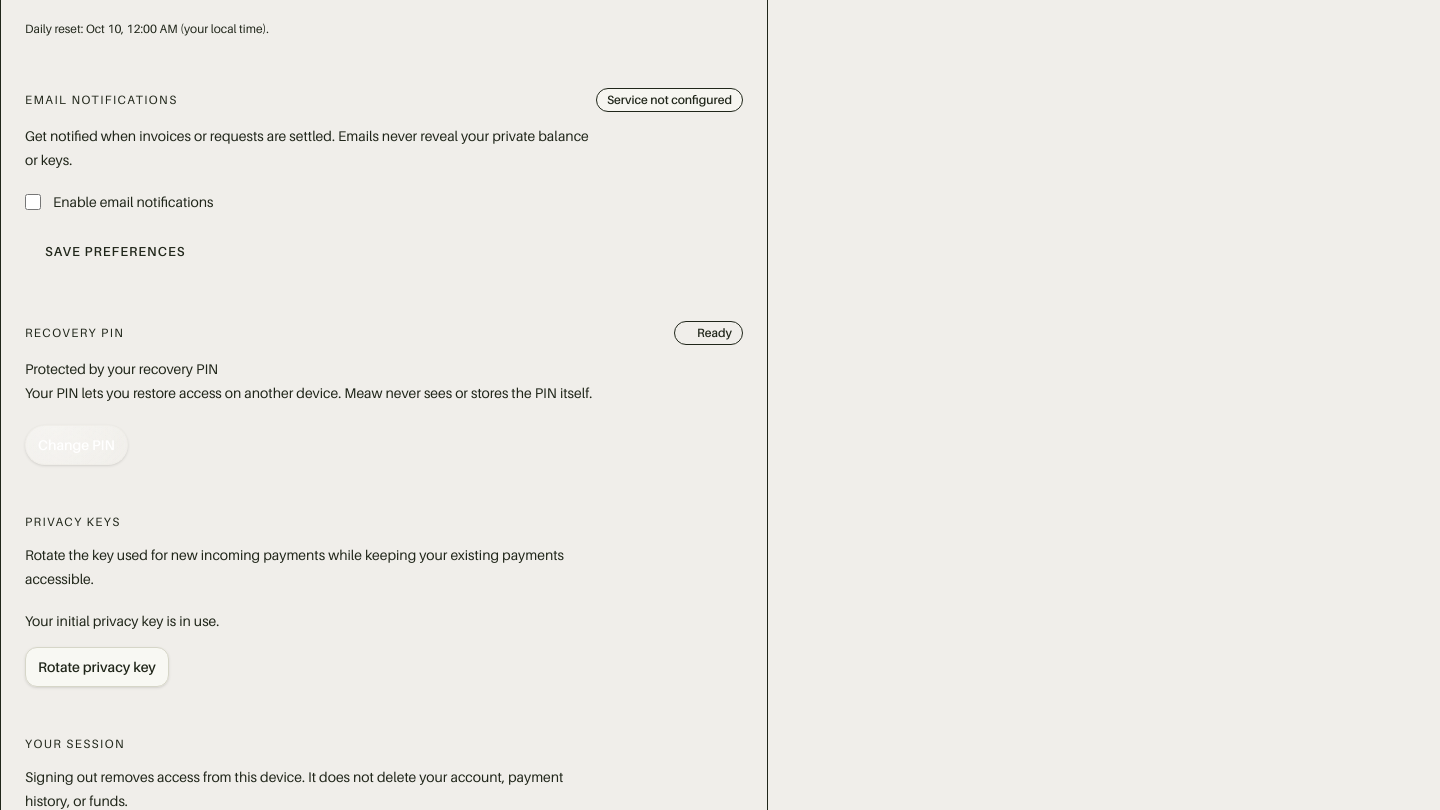
SettingsDashboard recovery › shows Change PIN only for configured recovery and opens the dialog
(page scrolled)
Click the button "Change PIN": x=76, y=445 [25,425,128,465]
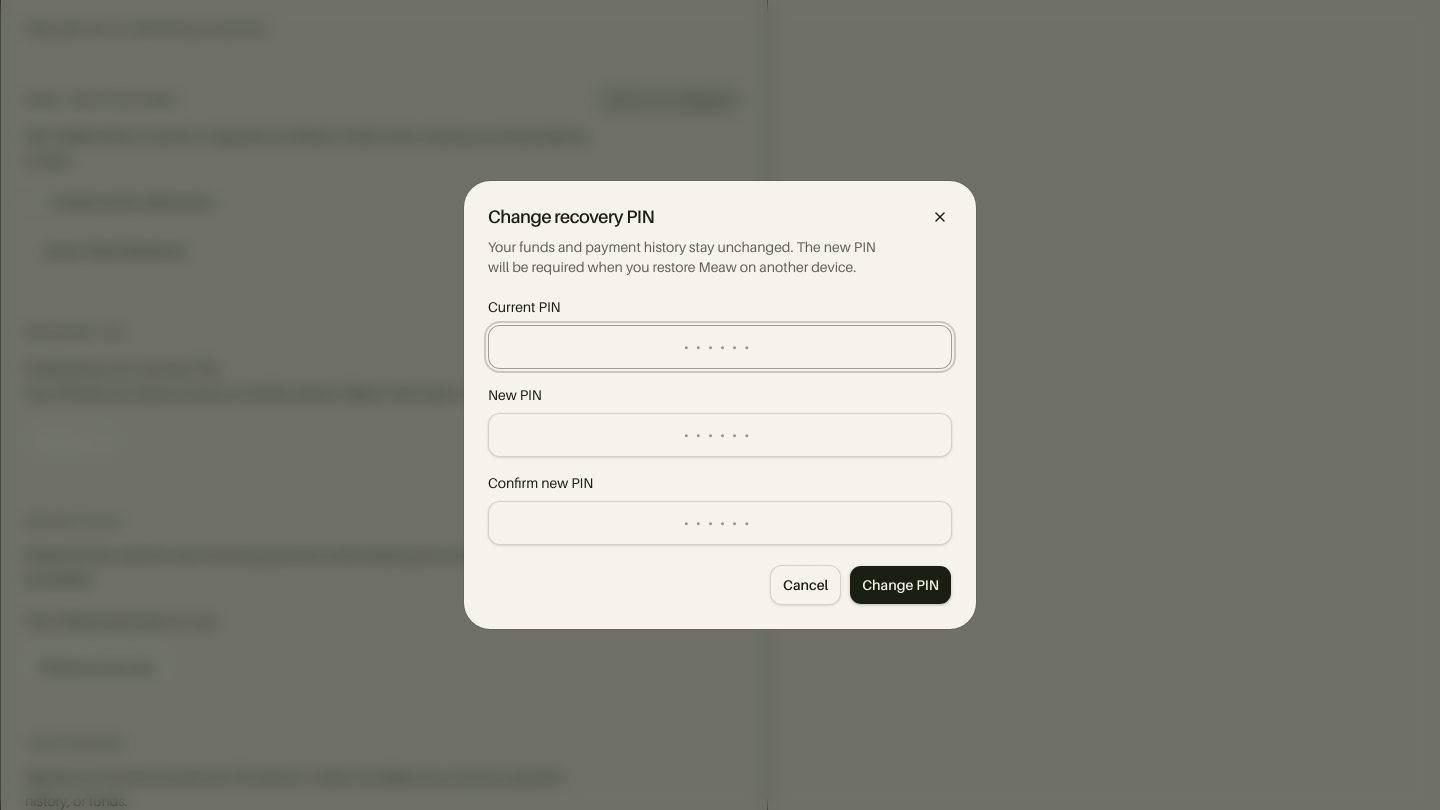
expect the dialog "Change recovery PIN" is shown: met, box [464,181,976,629]
